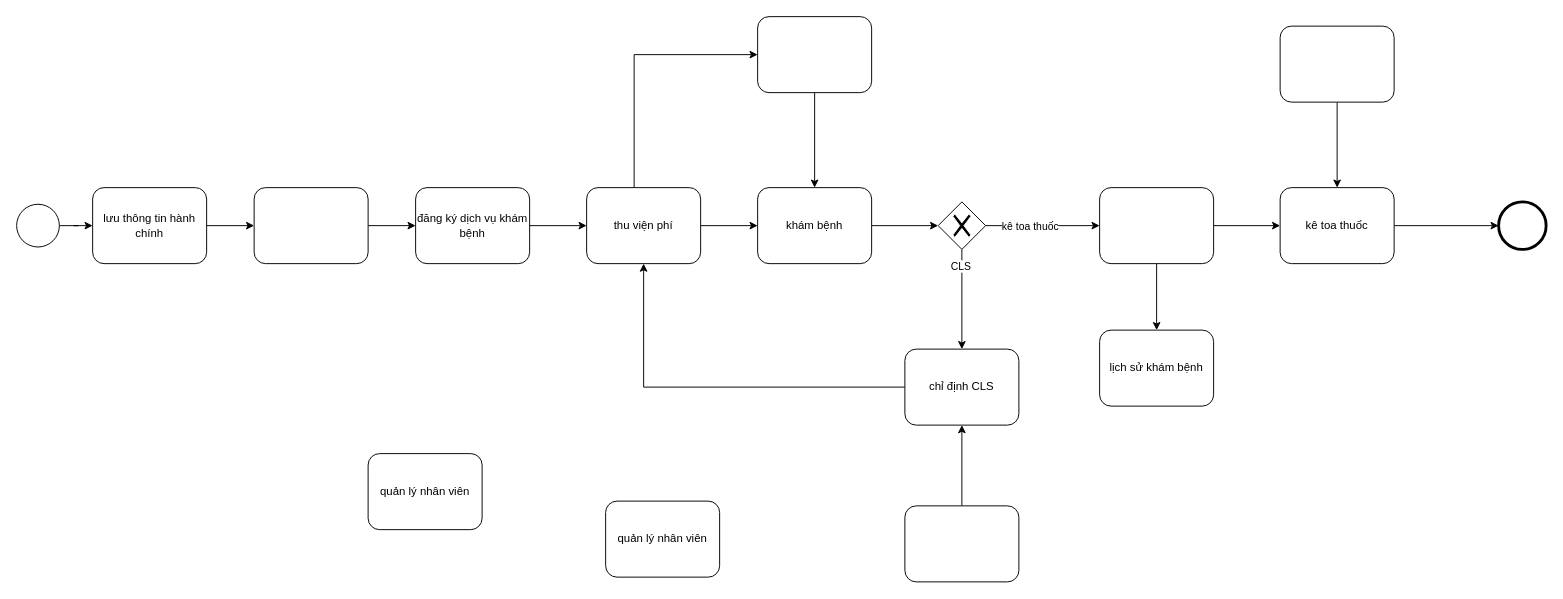
Some shapes in this 1563 by 599 pixel diagram are drawn without their labels. Here are the shapes that lost their labels. From the top down, the centre of each, then its label:
At point 814,54: "thực hiện CLS".
At point 1336,63: "nhập thuốc".
At point 310,225: "kiểm tra lịch hẹn khám".
At point 1156,225: "kết luận bệnh".
At point 961,543: "nhập vật tư y tế".
